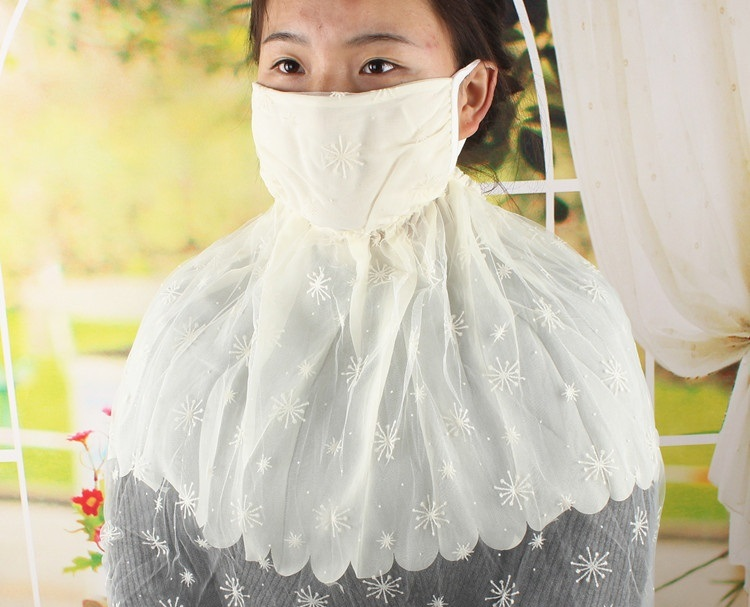face_mask: (249, 0, 459, 210)
